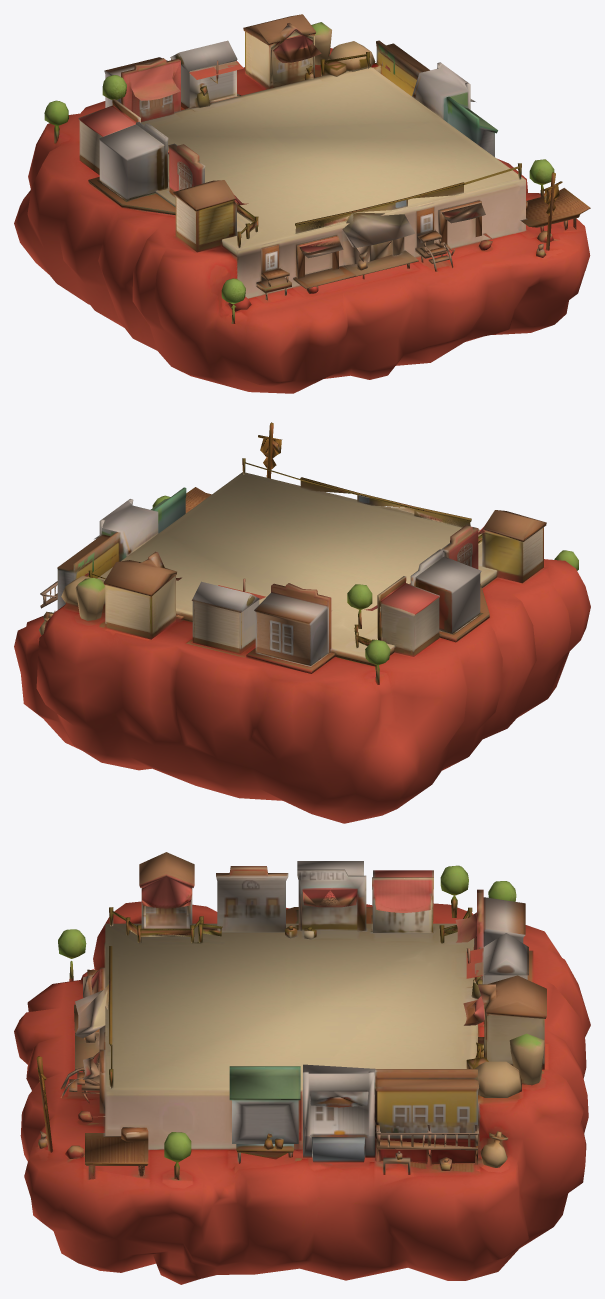
The model's file is texas-town.glb.
3 renders of one model, top to bottom at view 1: azimuth 30°, elevation 25°; view 2: azimuth 150°, elevation 25°; view 3: azimuth 270°, elevation 25°, orthographic. The views are drawn at different scales.
Visible parts, largest first — view 1: tripo_node_f2d9548c-900f-4548-bf94-f92ad10faa24; view 2: tripo_node_f2d9548c-900f-4548-bf94-f92ad10faa24; view 3: tripo_node_f2d9548c-900f-4548-bf94-f92ad10faa24.
Boxes of the visible parts, x1,y1,x2,y2 form: tripo_node_f2d9548c-900f-4548-bf94-f92ad10faa24: (14,14,590,393); tripo_node_f2d9548c-900f-4548-bf94-f92ad10faa24: (14,422,590,823); tripo_node_f2d9548c-900f-4548-bf94-f92ad10faa24: (14,852,590,1284).
Bounding box in the file's own units: 1.68 × 0.8866 × 1.68.
1 material, 1 textured.
